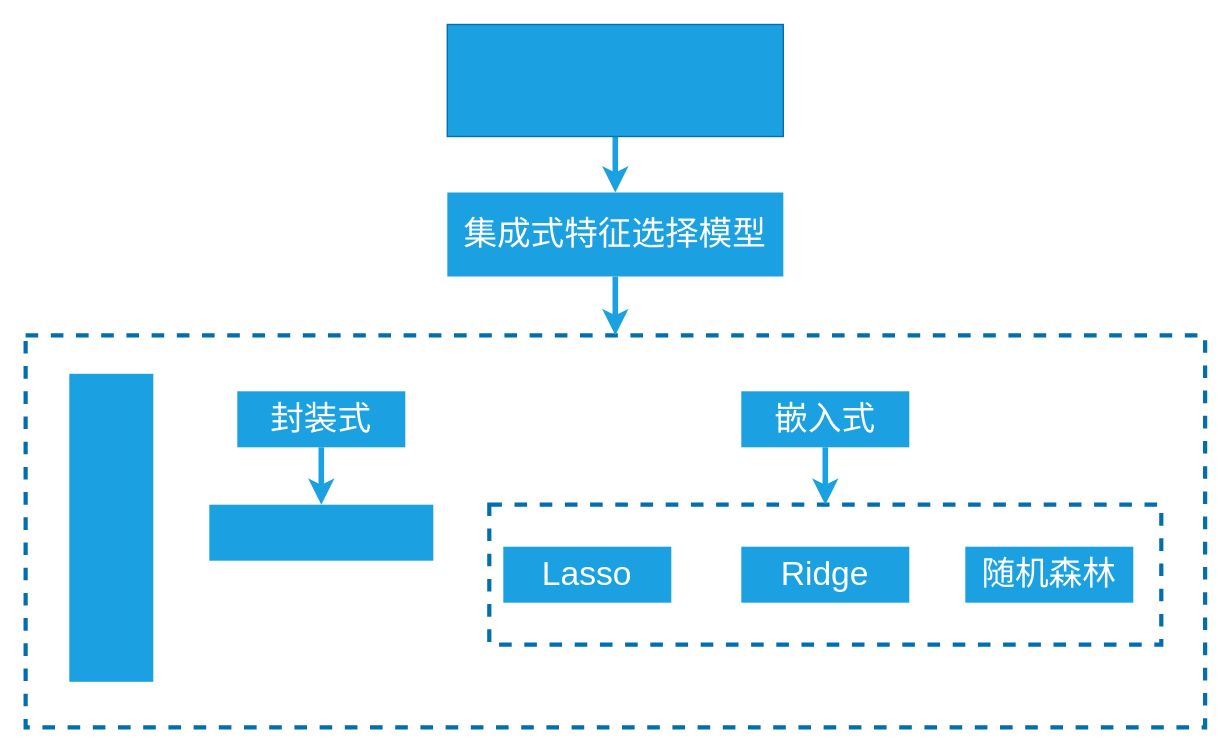
Some shapes in this 1232 by 753 pixel diagram are drawn without their labels. The shapes that lost their labels are listed below. From the top down, each one's centre as x and y in pixels, then its label:
At (x=614, y=79): "输入504维化合物数据".
At (x=111, y=527): "特 征 重 要 性 排 序".
At (x=321, y=532): "递归特征消除".
